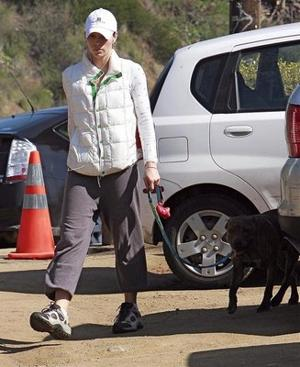person: (30, 7, 161, 336)
